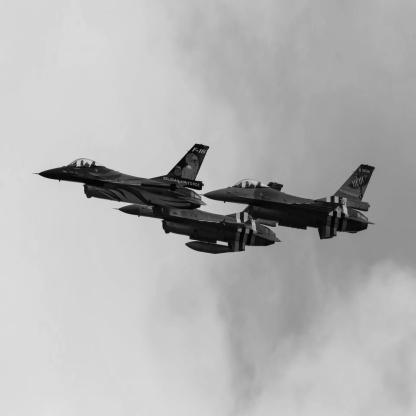F16: (199, 165, 378, 241), (33, 144, 211, 217), (113, 182, 285, 255)
